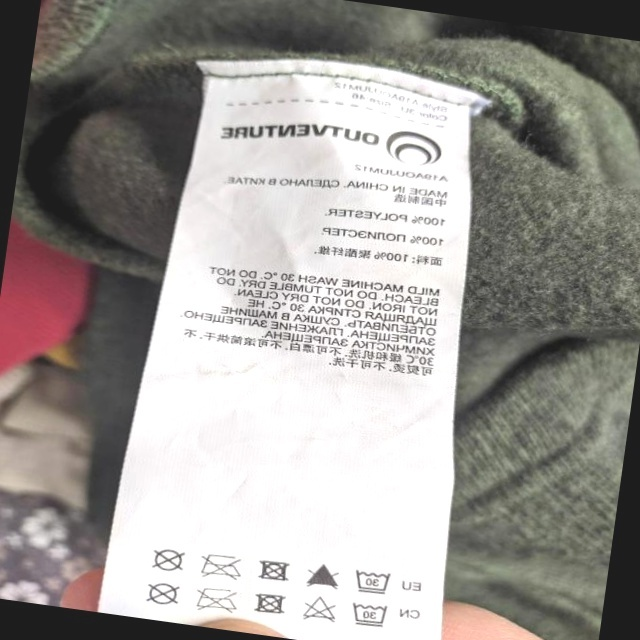30C: (348, 560, 393, 600), (347, 599, 391, 629)
DN_bleach: (302, 556, 342, 592), (300, 594, 339, 626)
DN_dry_clean: (140, 578, 184, 609), (147, 544, 186, 575)
DN_iron: (195, 548, 244, 584), (191, 582, 239, 615)
DN_tumble_dry: (248, 588, 289, 618), (255, 555, 294, 586)
